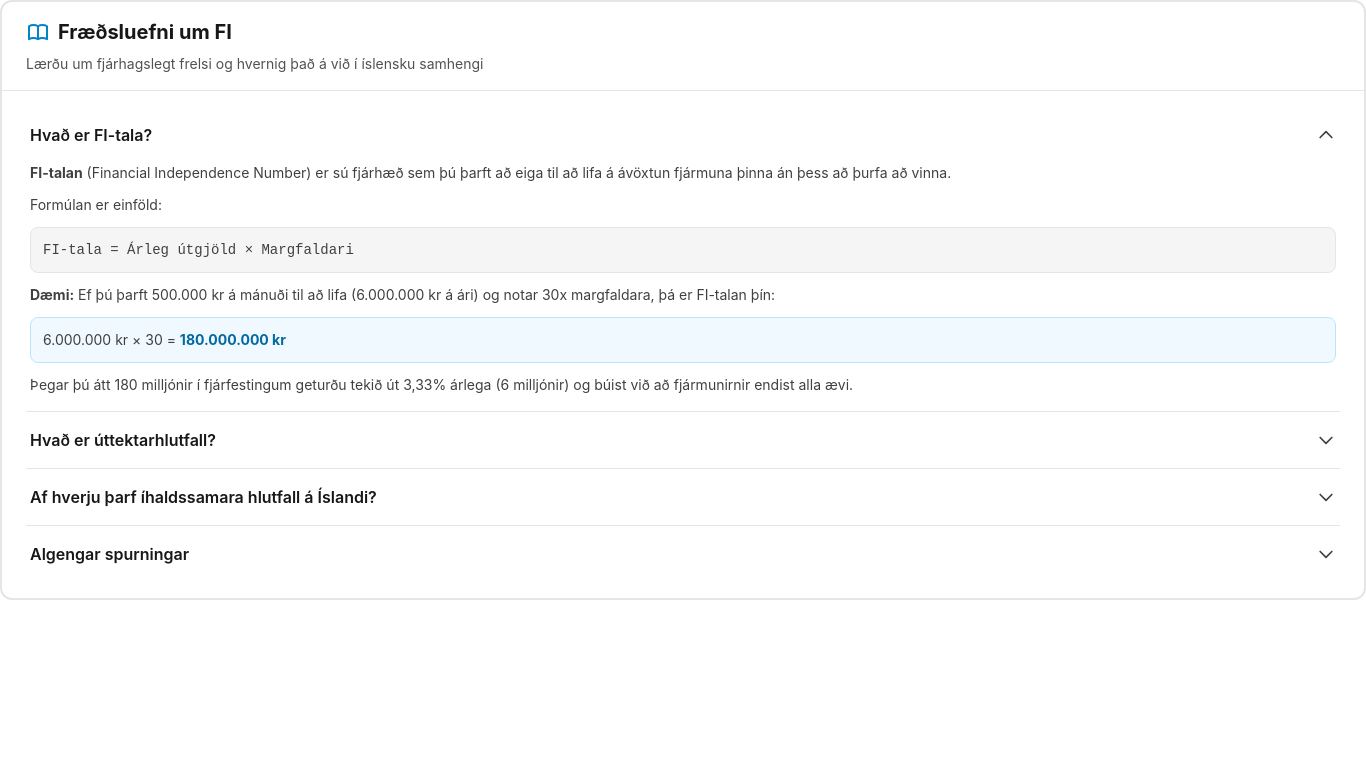
EducationalPanel › Collapsible Sections › expands section when clicked
This screenshot has width=1366, height=768.
Expected: the text "Úttektarhlutfallið" is not shown
Click to expand
Click the button "Hvað er úttektarhlutfall?" at (123, 440), box [26, 412, 1340, 468]
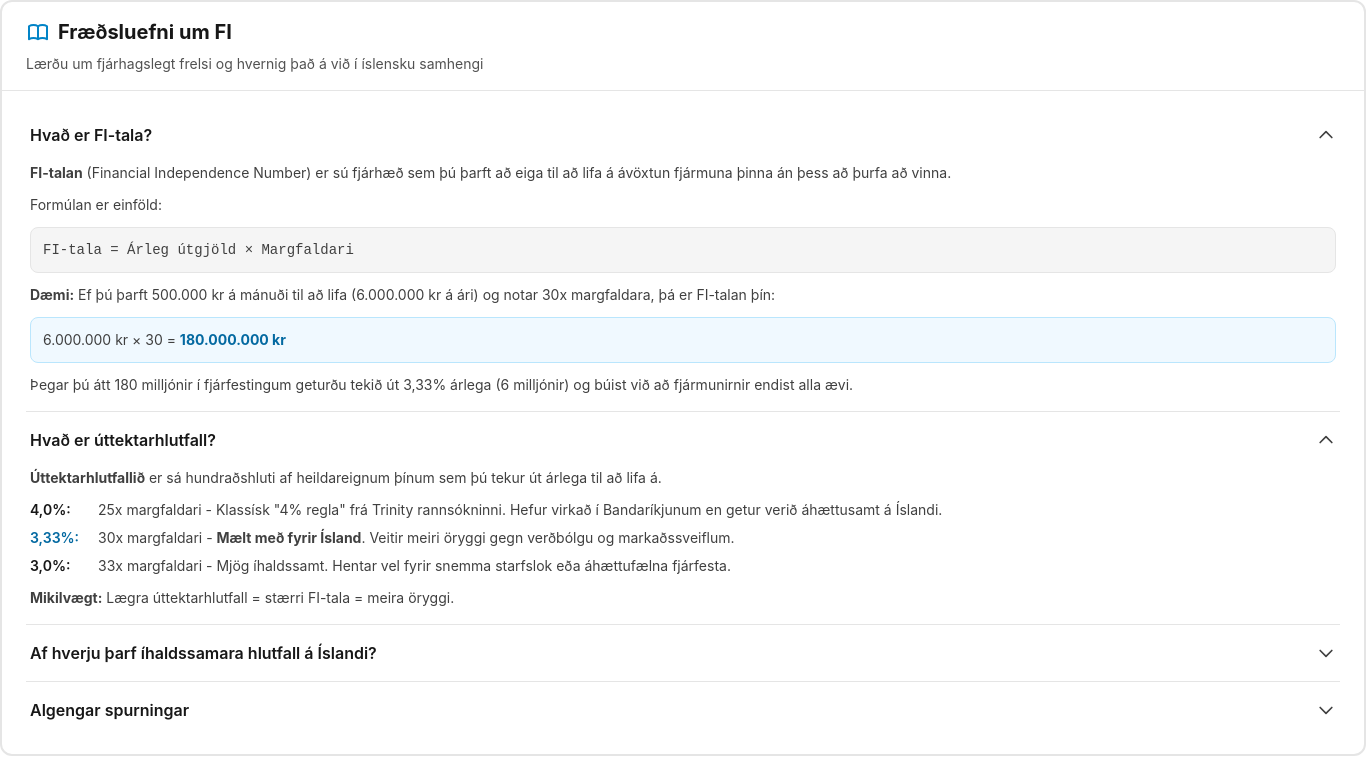
Expected: the text "Úttektarhlutfallið" is shown, [30, 469, 145, 486]
Expected: the text "hundraðshluti" is shown, [145, 469, 662, 486]
